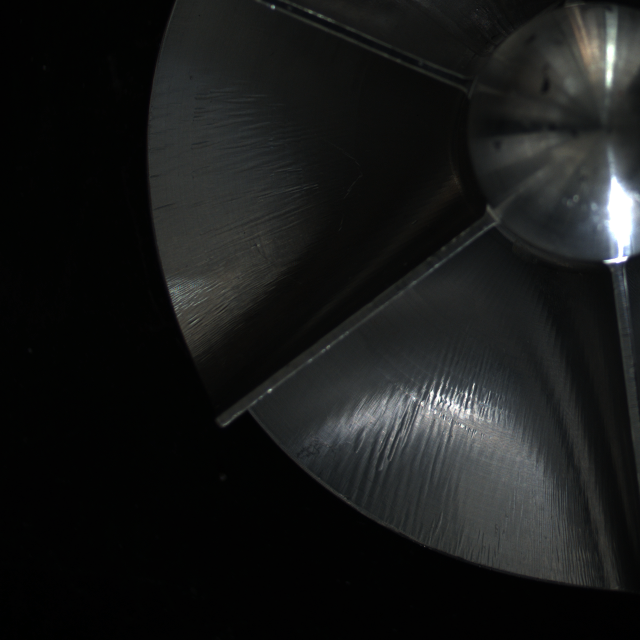wrinkle: (195, 84, 335, 228), (377, 377, 469, 533)
